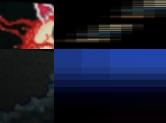eyeC: (0, 0, 54, 49)
slime: (54, 49, 166, 92)
